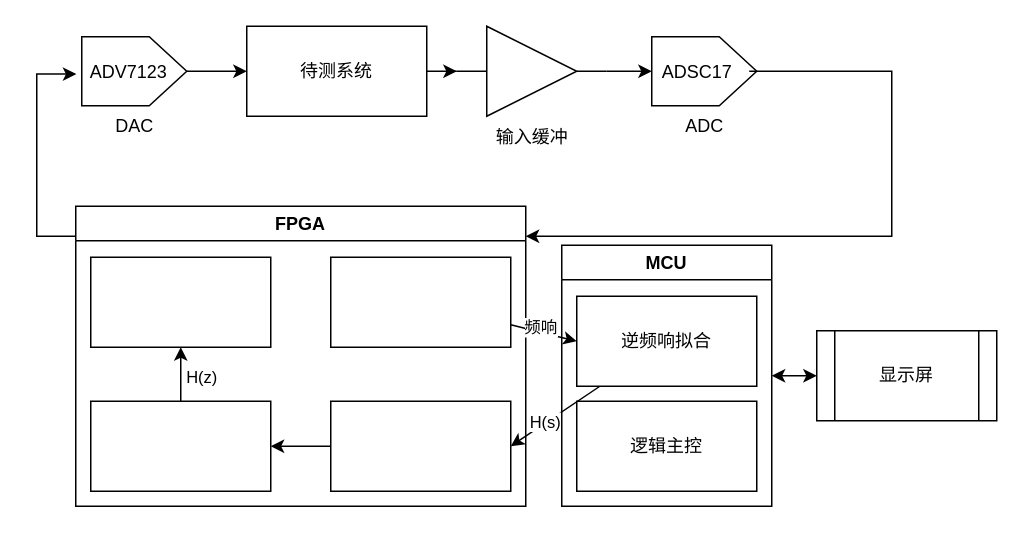
Some shapes in this 1023 by 533 pixel diagram are drawn without their labels. Each missing label, with the centre of its shape:
IIR: the point at 180,301
双线性变换: the point at 180,445
幅频-相频测试: the point at 420,301
数字预失真器: the point at 420,445
